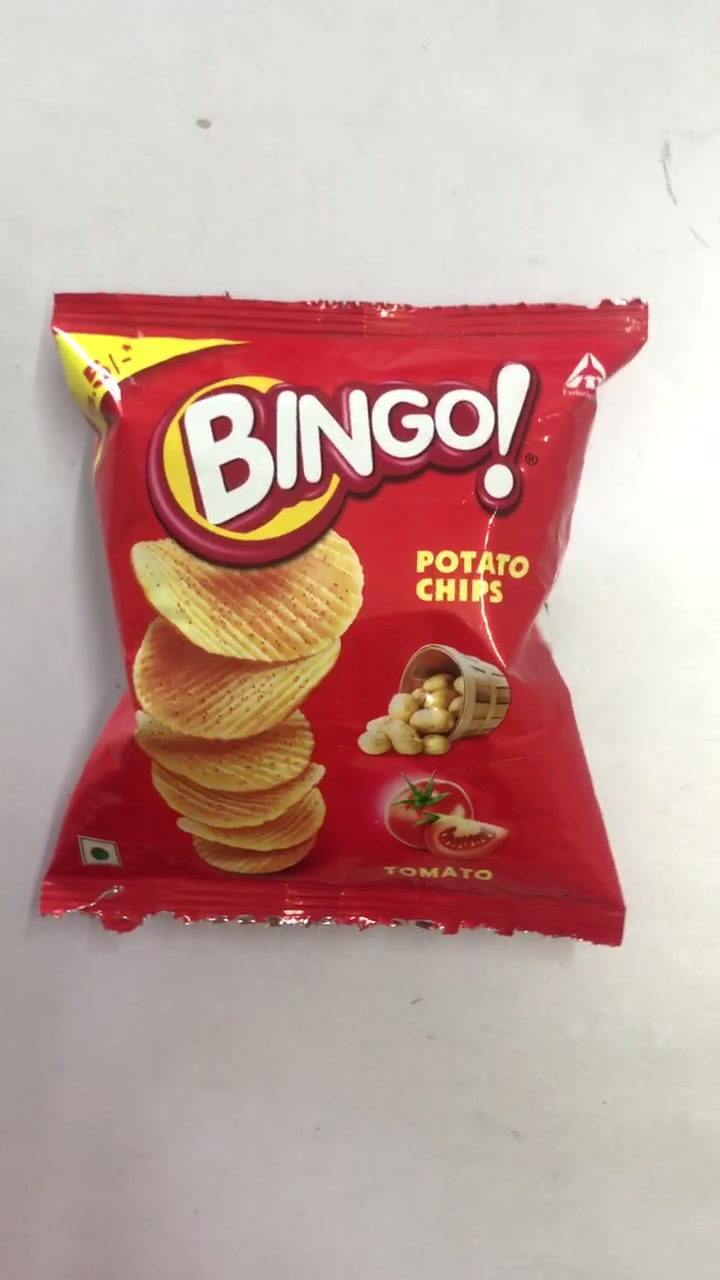Bingo: (52, 292, 630, 945)
